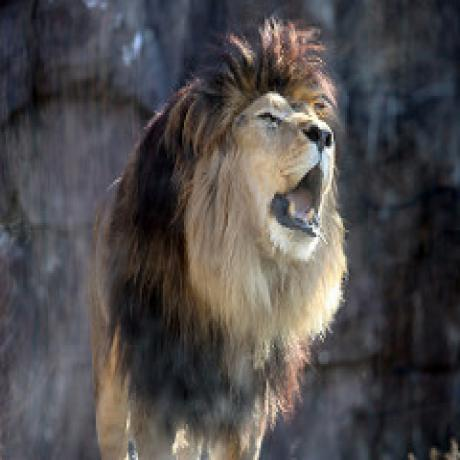Lion: (89, 19, 353, 460)
